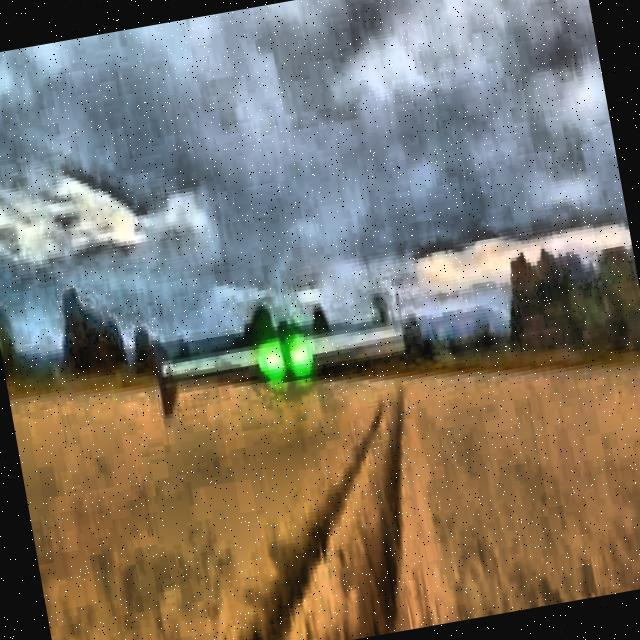iha: (136, 286, 438, 429)
